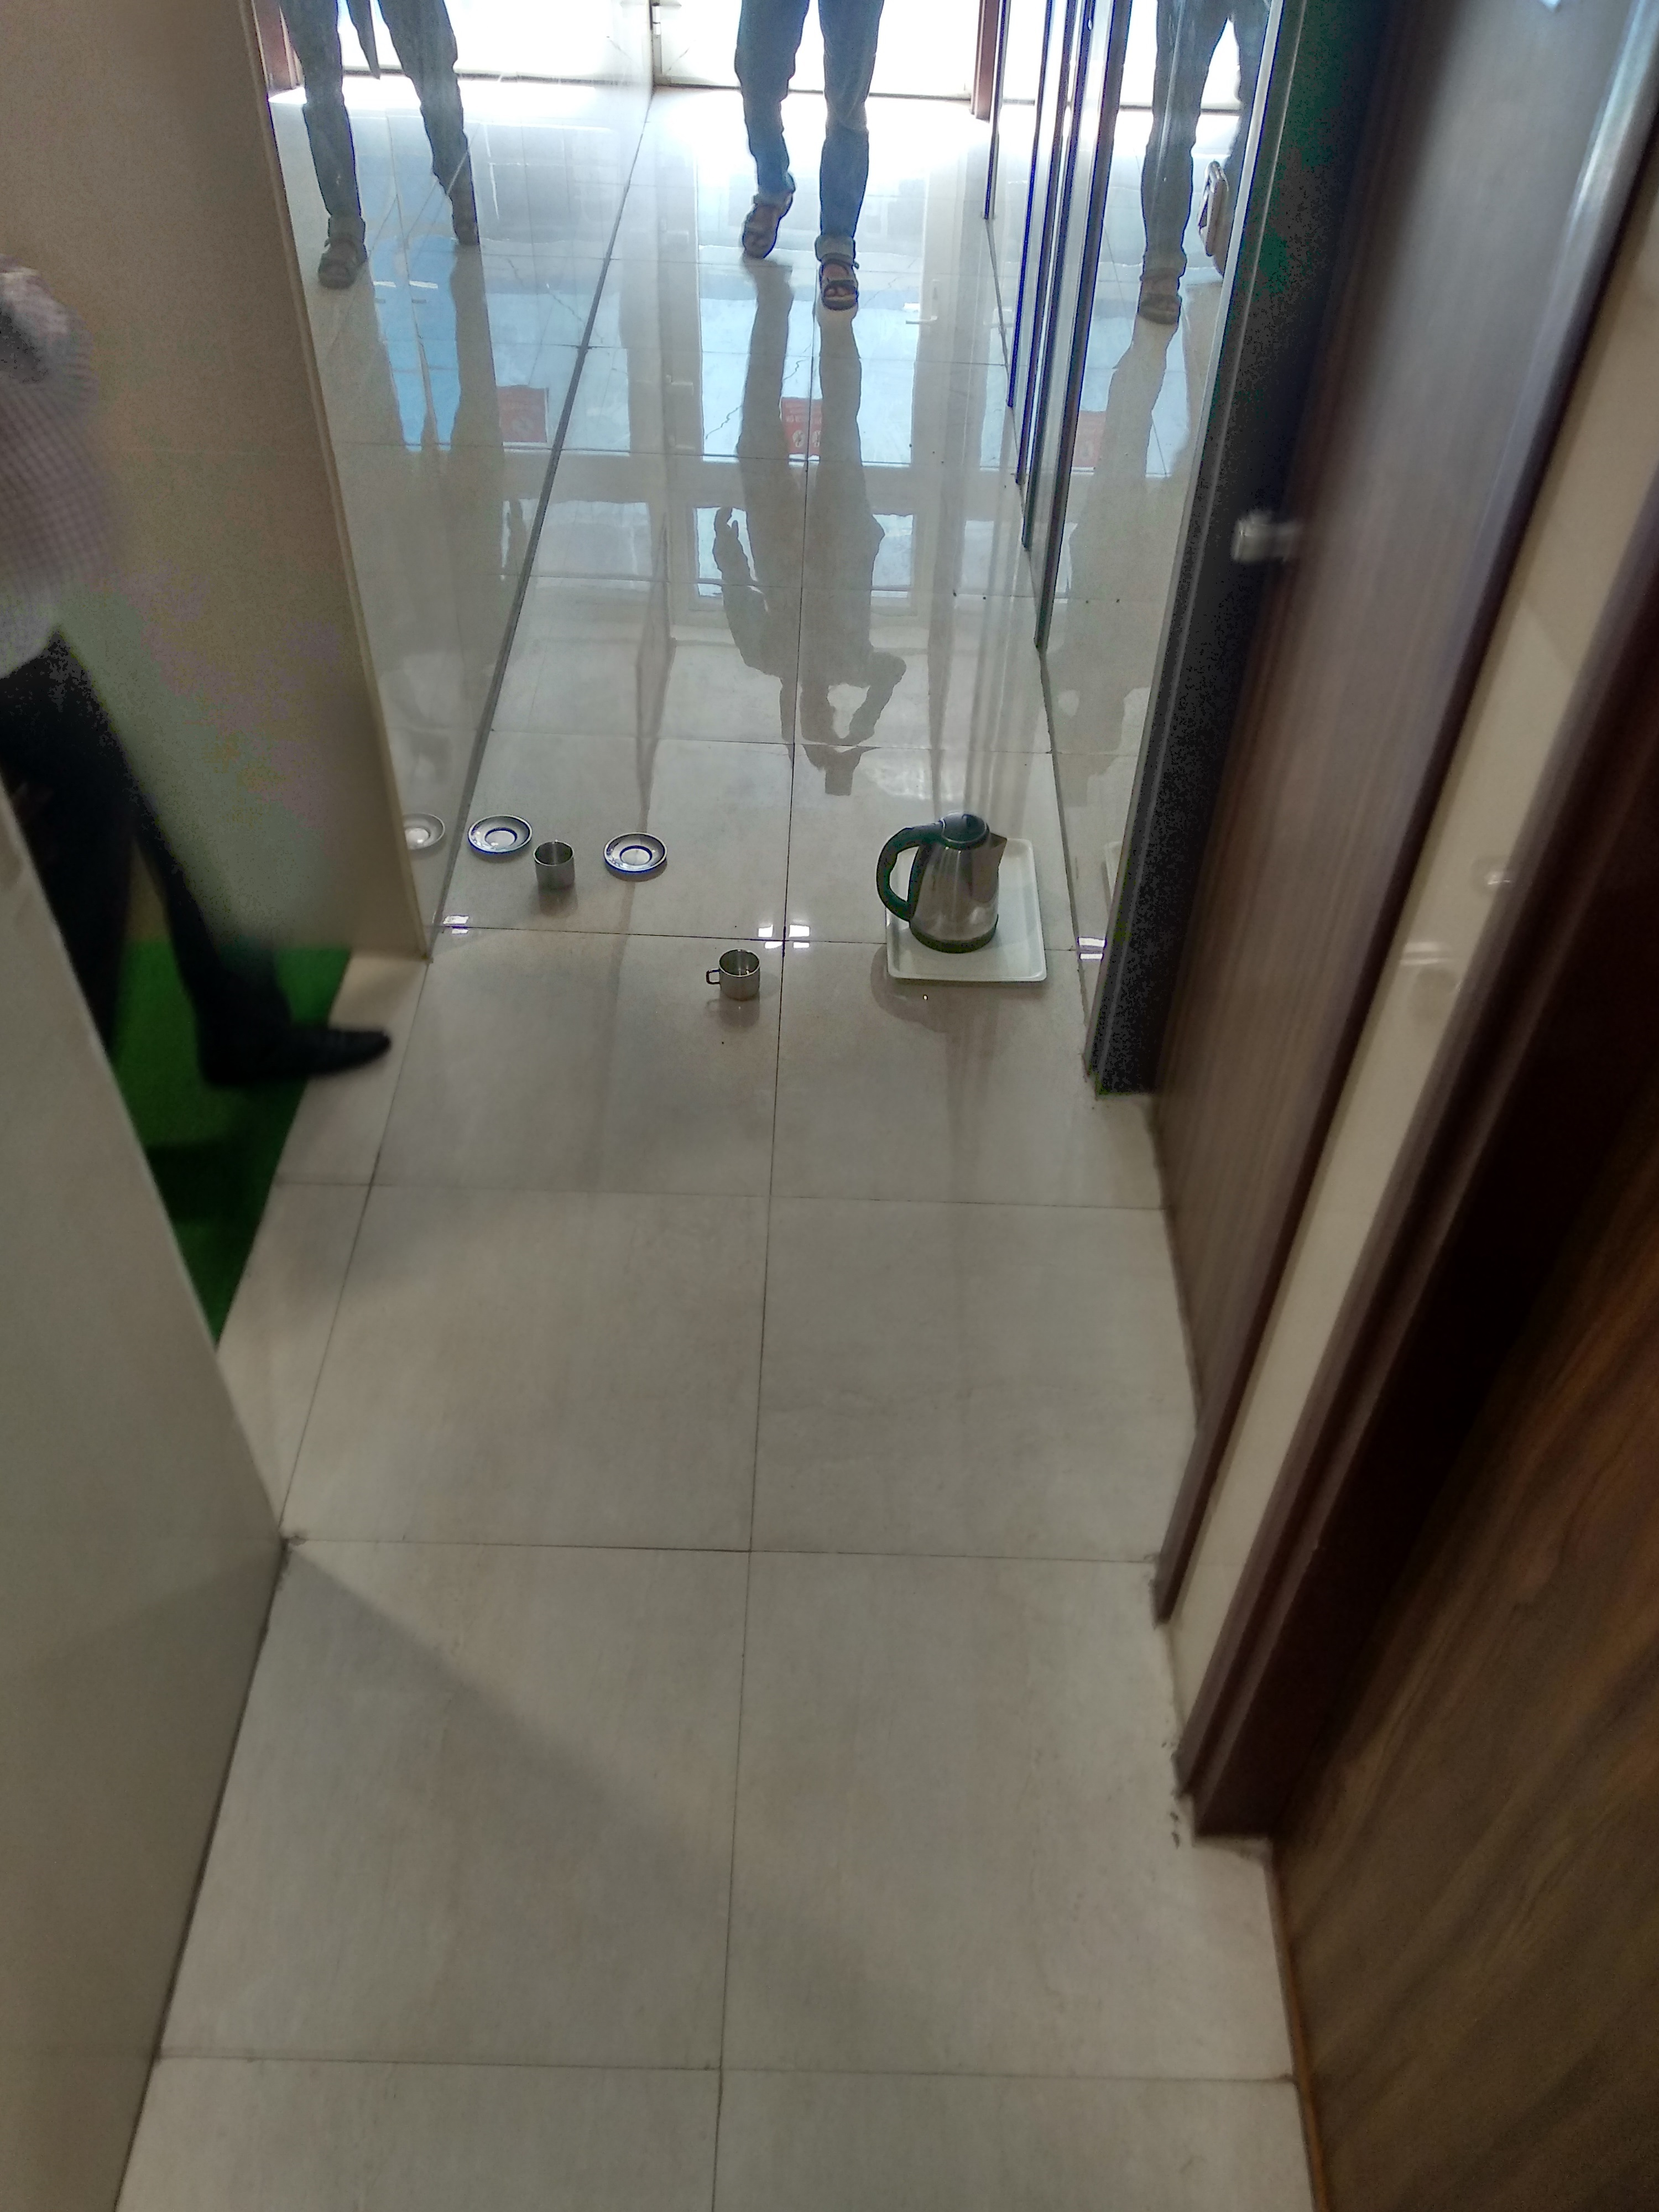CUP: (708, 951, 772, 998), (528, 843, 584, 892)
FLASK: (897, 808, 1025, 948)
